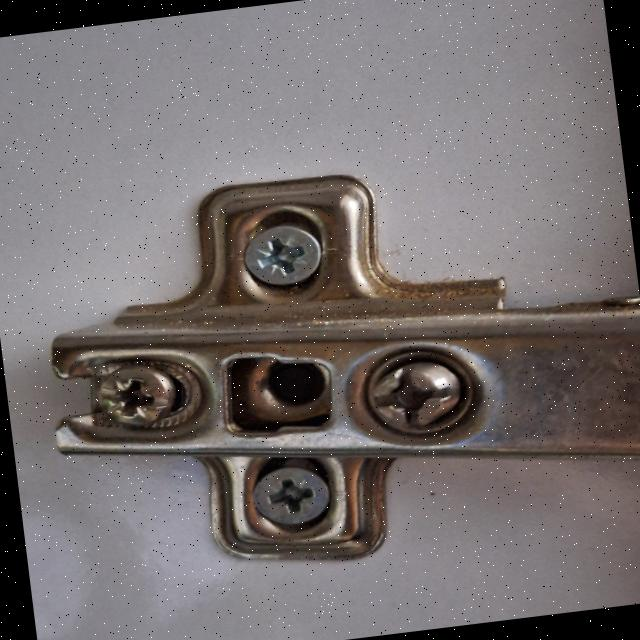Phillips: (356, 350, 468, 448)
Pozidriv: (89, 359, 185, 442), (243, 460, 334, 538), (246, 223, 322, 294)
